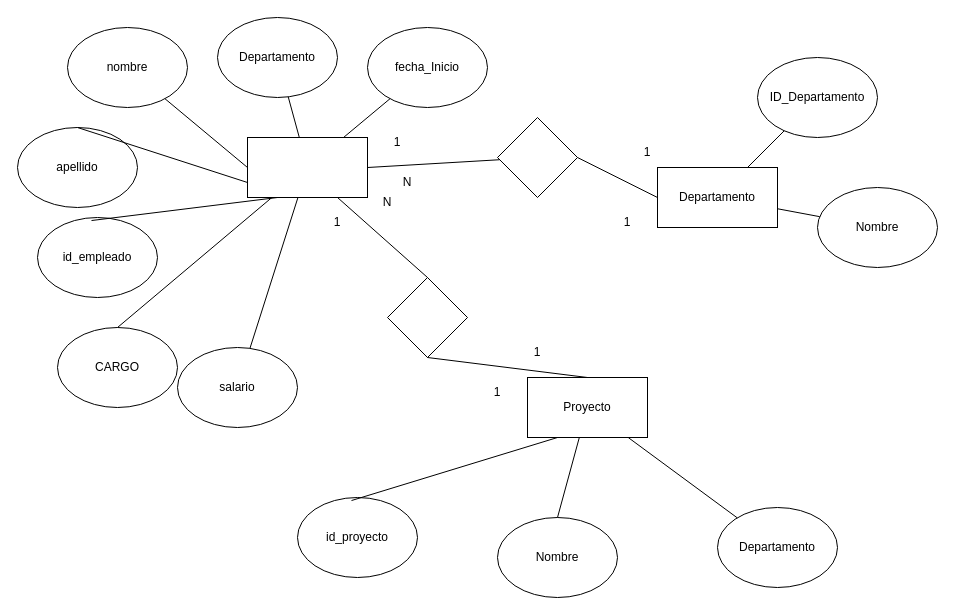
Some shapes in this 955 by 615 pixel diagram are drawn without their labels. Each missing label, with the box of its shape:
empleado: (246, 136, 368, 198)
Pertenece: (496, 116, 578, 198)
Tiene: (386, 276, 468, 358)
